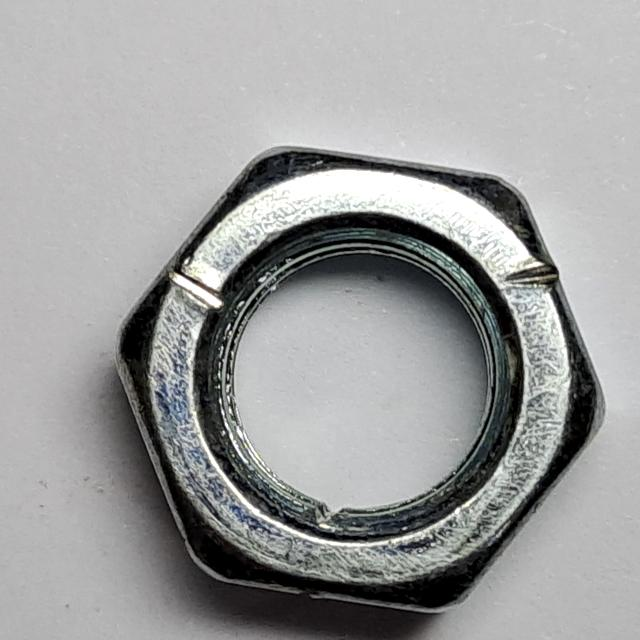Scratches: (98, 124, 620, 632)
